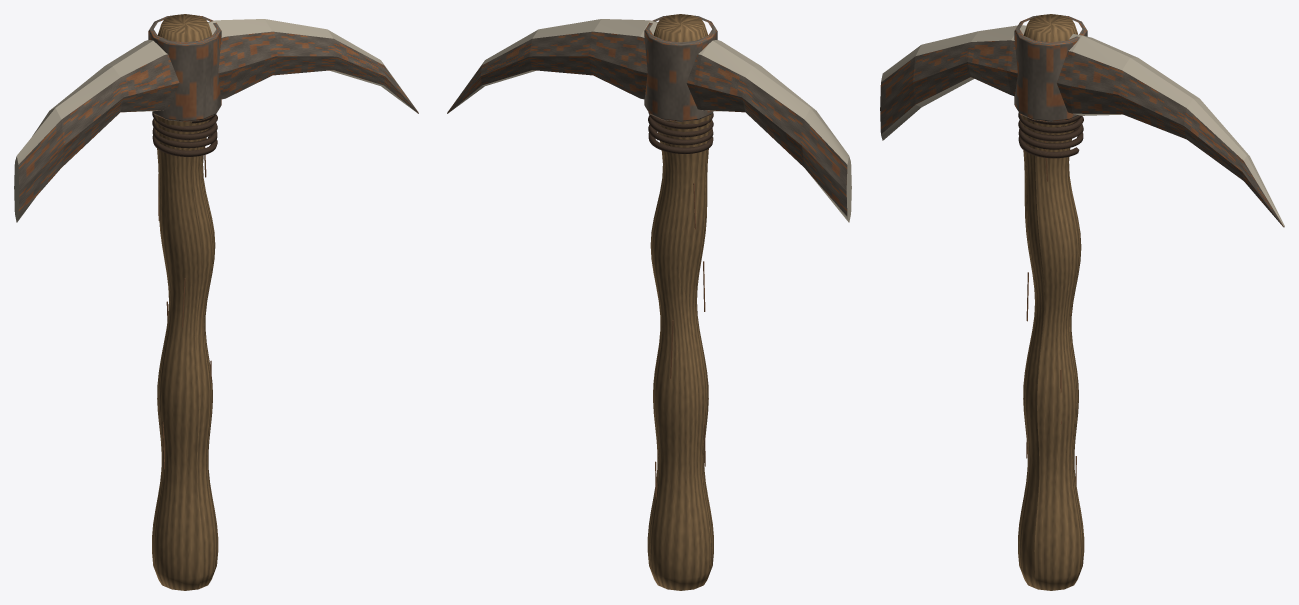
The model's file is worn_pickaxe.glb.
The picture shows the model from 3 angles, left to right: view 1: azimuth 30°, elevation 25°; view 2: azimuth 150°, elevation 25°; view 3: azimuth 330°, elevation 25°; orthographic projection.
Visible parts, largest first — view 1: longitudinal-haft-grain, worn_pickaxe-head-material, honed-head-bevels, socket-and-ferrule-metal, creased-leather-wrap; view 2: longitudinal-haft-grain, worn_pickaxe-head-material, honed-head-bevels, socket-and-ferrule-metal, creased-leather-wrap; view 3: longitudinal-haft-grain, worn_pickaxe-head-material, honed-head-bevels, socket-and-ferrule-metal, creased-leather-wrap.
Boxes of the visible parts, <box> form: longitudinal-haft-grain: <box>152,14,218,590</box>; worn_pickaxe-head-material: <box>18,31,418,216</box>; honed-head-bevels: <box>14,19,417,222</box>; socket-and-ferrule-metal: <box>148,15,221,121</box>; creased-leather-wrap: <box>152,112,217,156</box>; longitudinal-haft-grain: <box>647,14,713,590</box>; worn_pickaxe-head-material: <box>447,31,847,216</box>; honed-head-bevels: <box>448,19,851,222</box>; socket-and-ferrule-metal: <box>644,15,717,121</box>; creased-leather-wrap: <box>648,112,713,153</box>; longitudinal-haft-grain: <box>1018,14,1084,590</box>; worn_pickaxe-head-material: <box>880,40,1283,226</box>; honed-head-bevels: <box>881,25,1284,227</box>; socket-and-ferrule-metal: <box>1014,15,1087,121</box>; creased-leather-wrap: <box>1018,112,1083,158</box>.
Bounding box in the file's own units: 0.62 × 0.82 × 0.098.
Materials: 6 (4 with a texture image).
